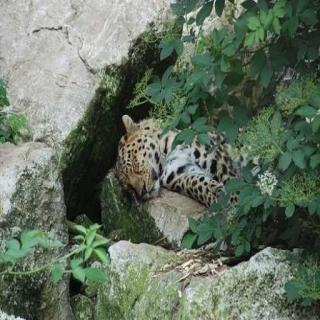Leopard: (112, 107, 198, 218)
